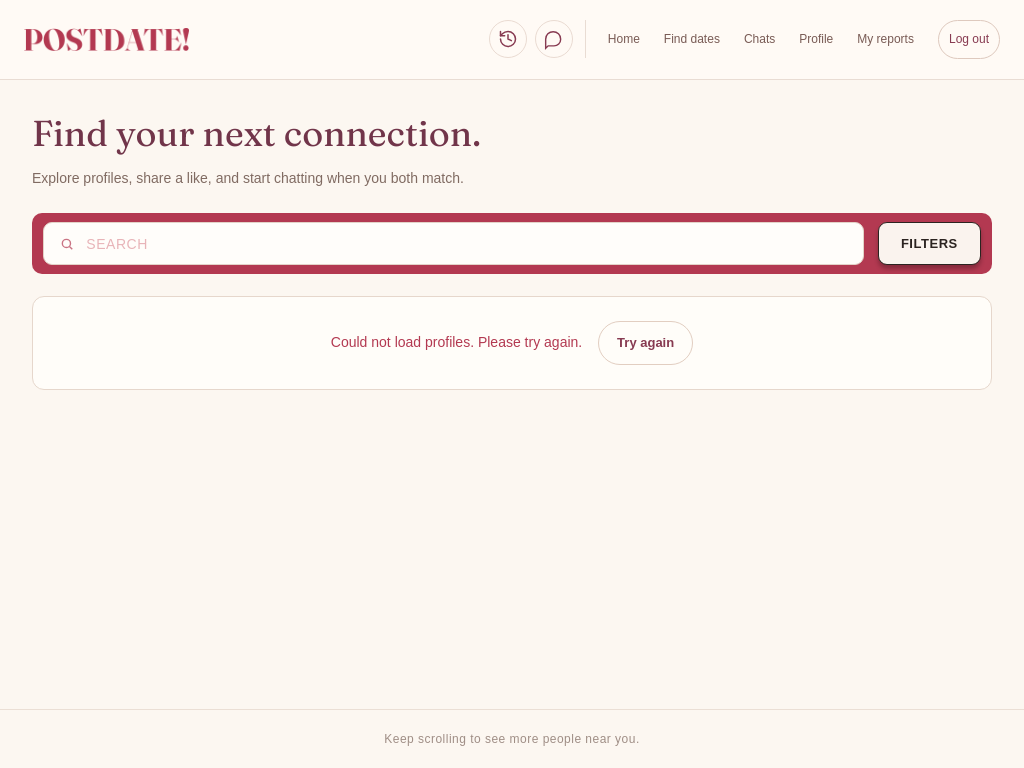
Test case: discovery offers retry on failure without claiming the search was empty
Expected: the message "Could not load profiles. Please try again. Try again" is shown, left=32, top=296, right=992, bottom=390
Click the button "Try again".
click(646, 343)  # box left=598, top=321, right=693, bottom=365
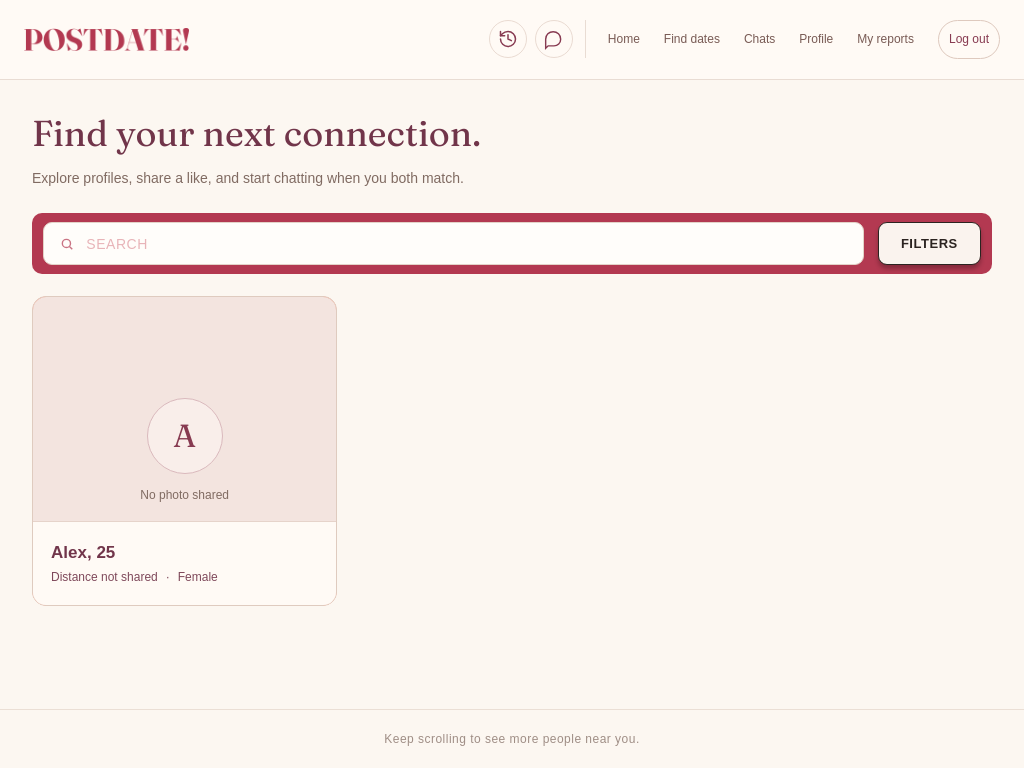
Result: the text "Alex, 25" is shown at left=51, top=542, right=115, bottom=562
